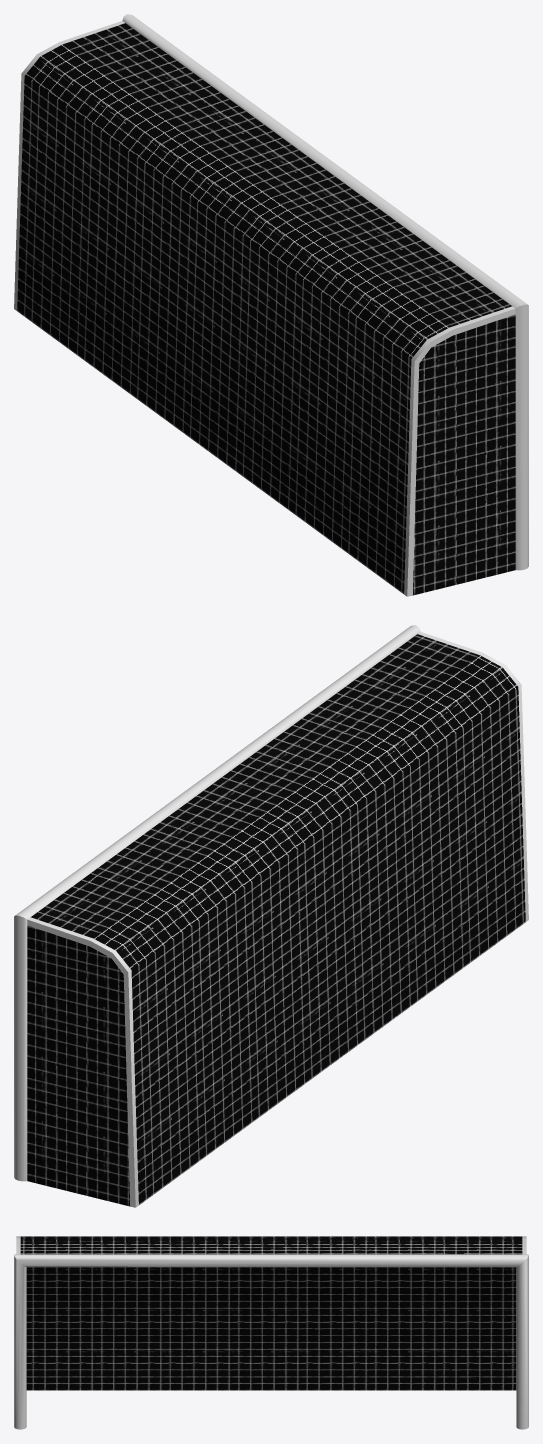
Rendered from gol.fbx.
3 renders of one model, top to bottom at view 1: azimuth 30°, elevation 25°; view 2: azimuth 150°, elevation 25°; view 3: azimuth 270°, elevation 25°, orthographic. The views are drawn at different scales.
Parts seen in each view (by area): view 1: rede, travessao, rede_002; view 2: rede, travessao, rede_002; view 3: rede, travessao.
Part boxes in pixels (x1,y1,x2,y2): rede: (17, 23, 515, 595); travessao: (122, 14, 528, 570); rede_002: (14, 21, 515, 596); rede: (27, 634, 525, 1206); travessao: (14, 625, 420, 1181); rede_002: (27, 632, 528, 1207); rede: (20, 1236, 522, 1390); travessao: (14, 1254, 528, 1429).
Size of the model in its own units: 1.2 by 2.47 by 6.69.
